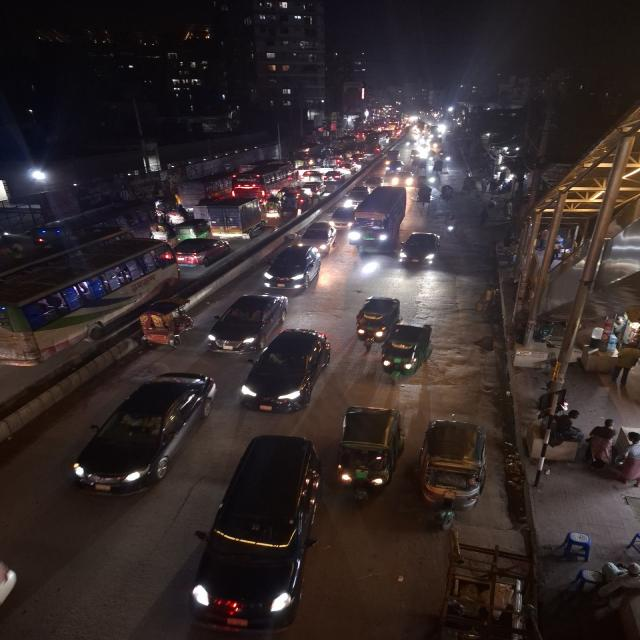bus: (1, 241, 180, 370), (348, 185, 411, 253), (233, 160, 298, 196)
car: (191, 430, 324, 636), (66, 368, 219, 499), (238, 326, 333, 415), (204, 290, 289, 352), (260, 242, 324, 292), (397, 229, 445, 269), (172, 236, 231, 268), (292, 220, 338, 254), (328, 206, 354, 228), (342, 186, 368, 206), (394, 168, 417, 186), (301, 181, 326, 197), (362, 175, 385, 191), (302, 170, 325, 182), (323, 171, 344, 183)
cng: (418, 416, 490, 530), (334, 404, 406, 506), (380, 322, 438, 386), (352, 291, 402, 349), (174, 218, 212, 240), (264, 198, 284, 220)
motorcycle: (442, 212, 461, 238), (294, 192, 308, 212)
rickshaw: (134, 298, 194, 352), (264, 198, 284, 220), (438, 182, 457, 204)
truck: (194, 197, 267, 240)
